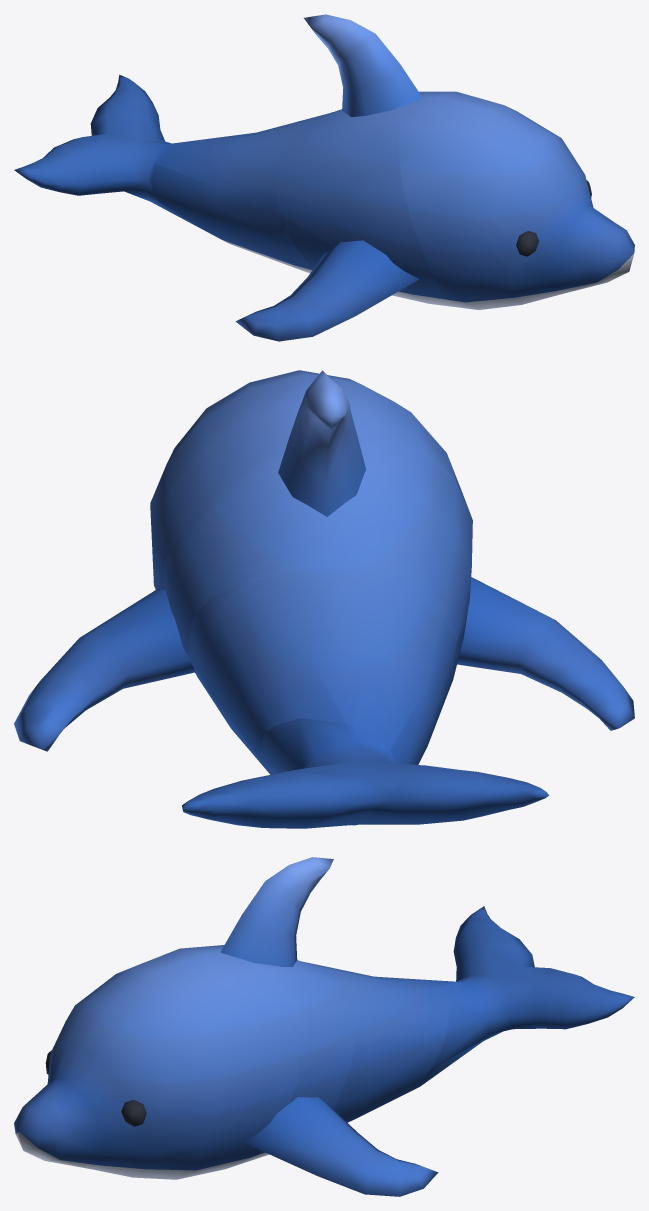
Rendered from Dolphin Toy break.fbx.
The picture shows the model from 3 angles, top to bottom: view 1: azimuth 30°, elevation 25°; view 2: azimuth 150°, elevation 25°; view 3: azimuth 270°, elevation 25°; orthographic projection. The views are drawn at different scales.
Parts seen in each view (by area): view 1: Dolphin Toy, Dolphin Toy.006, Dolphin Toy.005, Dolphin Toy.004, Dolphin Toy.001, Dolphin Toy.003; view 2: Dolphin Toy.005, Dolphin Toy.006, Dolphin Toy.004, Dolphin Toy, Dolphin Toy.002, Dolphin Toy.001, Dolphin Toy.003; view 3: Dolphin Toy, Dolphin Toy.004, Dolphin Toy.005, Dolphin Toy.002, Dolphin Toy.006, Dolphin Toy.003.
Part boxes in pixels (bbox=[...]): Dolphin Toy: bbox=[396, 91, 634, 309]; Dolphin Toy.006: bbox=[276, 107, 461, 307]; Dolphin Toy.005: bbox=[151, 115, 322, 273]; Dolphin Toy.004: bbox=[14, 74, 180, 213]; Dolphin Toy.001: bbox=[235, 240, 419, 341]; Dolphin Toy.003: bbox=[304, 14, 422, 116]; Dolphin Toy.005: bbox=[188, 571, 456, 774]; Dolphin Toy.006: bbox=[163, 439, 472, 690]; Dolphin Toy.004: bbox=[182, 718, 549, 828]; Dolphin Toy: bbox=[150, 370, 468, 589]; Dolphin Toy.002: bbox=[14, 588, 195, 751]; Dolphin Toy.001: bbox=[457, 577, 634, 730]; Dolphin Toy.003: bbox=[278, 370, 365, 516]; Dolphin Toy: bbox=[14, 946, 298, 1179]; Dolphin Toy.004: bbox=[429, 906, 634, 1079]; Dolphin Toy.005: bbox=[319, 965, 453, 1122]; Dolphin Toy.002: bbox=[243, 1097, 438, 1196]; Dolphin Toy.006: bbox=[208, 945, 355, 1170]; Dolphin Toy.003: bbox=[220, 857, 333, 966].
Bounding box in the file's own units: 41.22 × 24.21 × 51.27.
